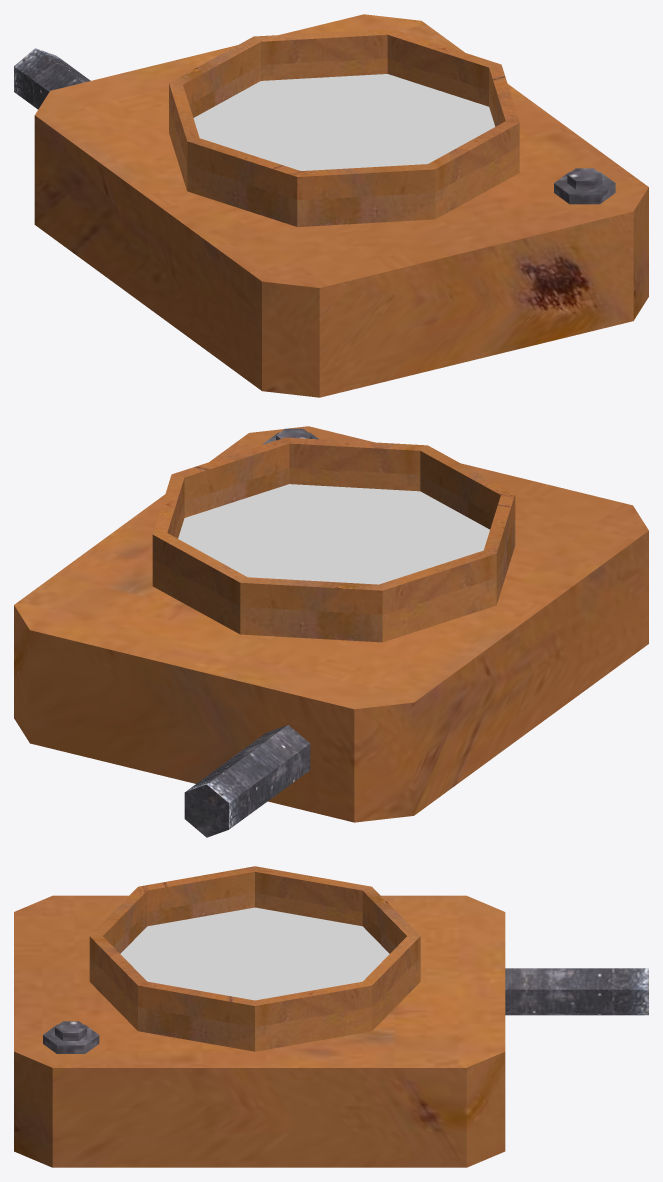
The model's file is radar.fbx.
The picture shows the model from 3 angles, top to bottom: view 1: azimuth 30°, elevation 25°; view 2: azimuth 150°, elevation 25°; view 3: azimuth 270°, elevation 25°; orthographic projection. The views are drawn at different scales.
Parts seen in each view (by area): view 1: Cylinder.001; view 2: Cylinder.001; view 3: Cylinder.001.
Part boxes in pixels (box(x1,y1,x2,y2)): Cylinder.001: box(14, 14, 648, 397); Cylinder.001: box(14, 426, 648, 837); Cylinder.001: box(14, 866, 648, 1167).
Bounding box in the file's own units: 124 × 48.98 × 194.
